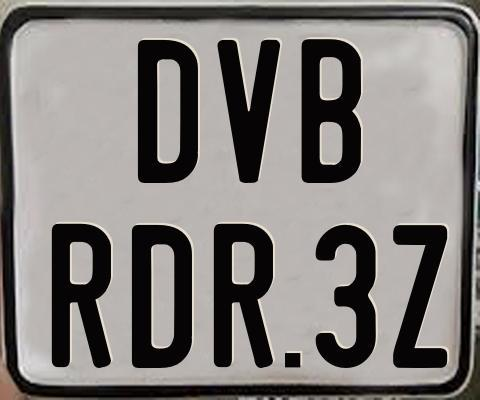3: (312, 224, 375, 367)
B: (299, 39, 364, 186)
D: (132, 224, 198, 371), (137, 38, 197, 181)
R: (211, 222, 271, 372), (50, 224, 109, 371)
V: (216, 38, 285, 182)
Z: (390, 225, 447, 370)
